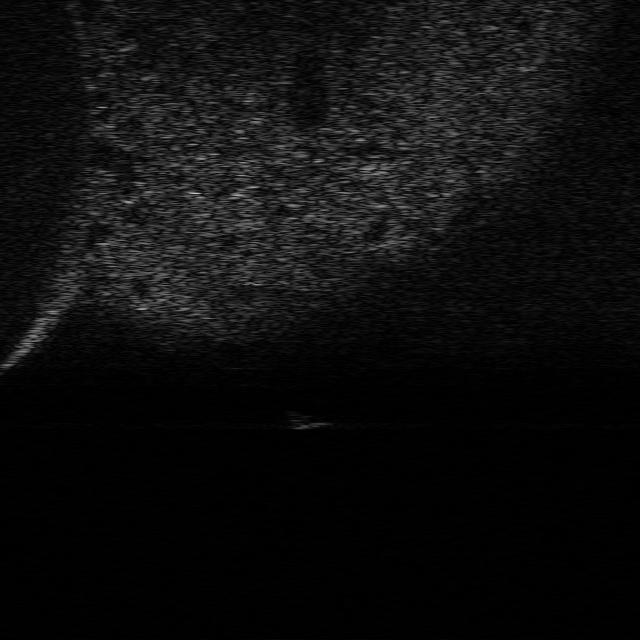cube: (285, 406, 327, 431)
